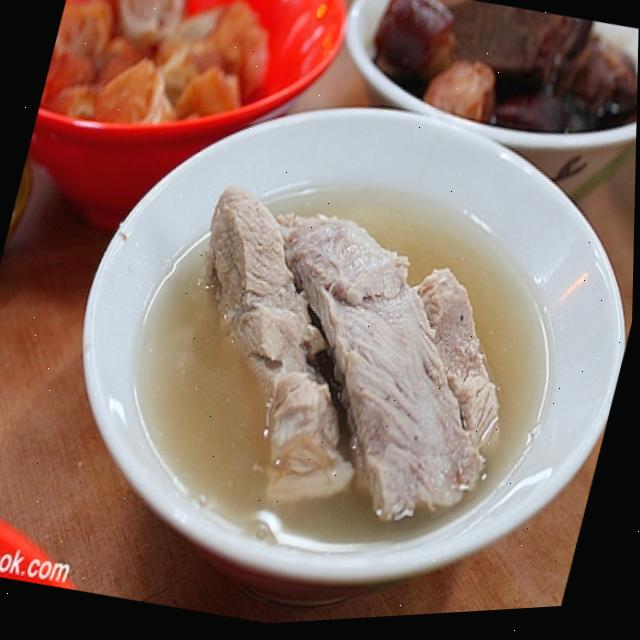汤锅炖物: (19, 23, 639, 639)
